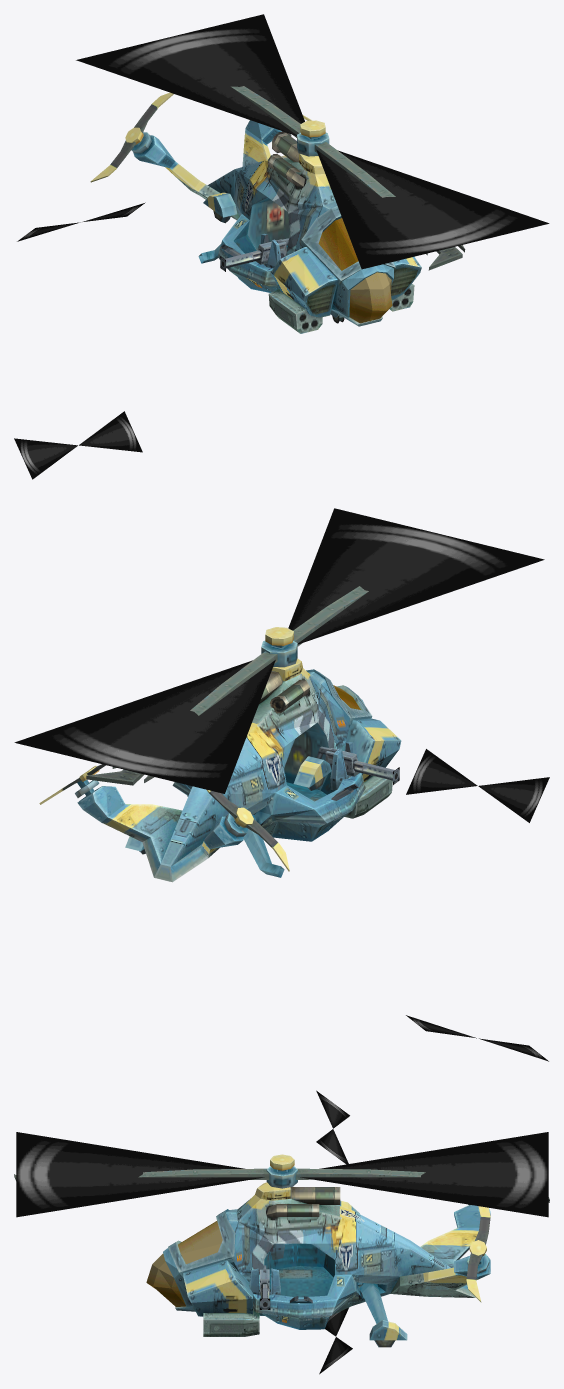
Rendered from VXGSHPH.obj.
3 renders of one model, top to bottom at view 1: azimuth 30°, elevation 25°; view 2: azimuth 150°, elevation 25°; view 3: azimuth 270°, elevation 25°, orthographic. The views are drawn at different scales.
Visible parts, largest first — view 1: Node 13, Node 0, Node 19, Node 12, Node 37, Node 8, Node 18, Node 11, Node 32, Node 22; view 2: Node 13, Node 0, Node 22, Node 12, Node 8, Node 18, Node 11, Node 37, Node 32, Node 31, Node 19; view 3: Node 0, Node 13, Node 12, Node 35, Node 21, Node 22, Node 3, Node 11, Node 19, Node 30, Node 29.
Boxes of the visible parts, left/top/right/bottom form: Node 13: left=76, top=14, right=549, bottom=269; Node 0: left=133, top=120, right=421, bottom=326; Node 19: left=14, top=411, right=142, bottom=479; Node 12: left=231, top=86, right=465, bottom=270; Node 37: left=268, top=289, right=322, bottom=333; Node 8: left=220, top=233, right=288, bottom=271; Node 18: left=90, top=92, right=173, bottom=182; Node 11: left=297, top=120, right=329, bottom=156; Node 32: left=203, top=192, right=237, bottom=223; Node 22: left=17, top=202, right=145, bottom=241; Node 13: left=14, top=508, right=544, bottom=793; Node 0: left=77, top=658, right=401, bottom=882; Node 22: left=406, top=749, right=549, bottom=822; Node 12: left=86, top=586, right=368, bottom=785; Node 8: left=316, top=742, right=399, bottom=789; Node 18: left=206, top=789, right=289, bottom=871; Node 11: left=261, top=627, right=297, bottom=667; Node 37: left=344, top=776, right=392, bottom=818; Node 32: left=293, top=756, right=331, bottom=790; Node 31: left=243, top=814, right=284, bottom=877; Node 19: left=406, top=1015, right=548, bottom=1061; Node 0: left=146, top=1182, right=490, bottom=1329; Node 13: left=16, top=1132, right=548, bottom=1217; Node 12: left=14, top=1168, right=549, bottom=1202; Node 35: left=203, top=1309, right=259, bottom=1336; Node 21: left=466, top=1206, right=490, bottom=1302; Node 22: left=316, top=1090, right=349, bottom=1164; Node 3: left=249, top=1265, right=280, bottom=1309; Node 11: left=266, top=1154, right=297, bottom=1188; Node 19: left=319, top=1307, right=352, bottom=1374; Node 30: left=369, top=1320, right=407, bottom=1347; Node 29: left=358, top=1283, right=387, bottom=1323.
Bounding box in the file's own units: 8.87 × 7.02 × 12.
27 materials, 27 textured.
